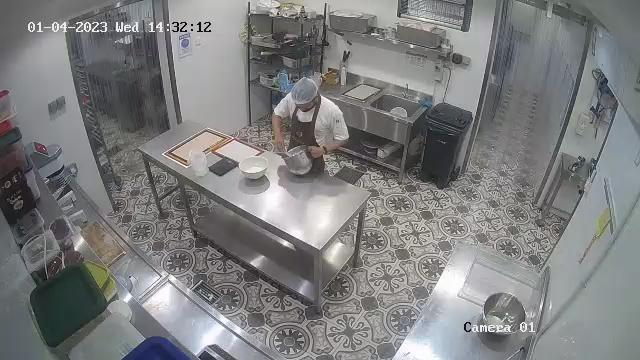gloves: (290, 78, 320, 104)
mask: (291, 104, 318, 114)
no_apron: (306, 143, 330, 159), (271, 134, 287, 156)
